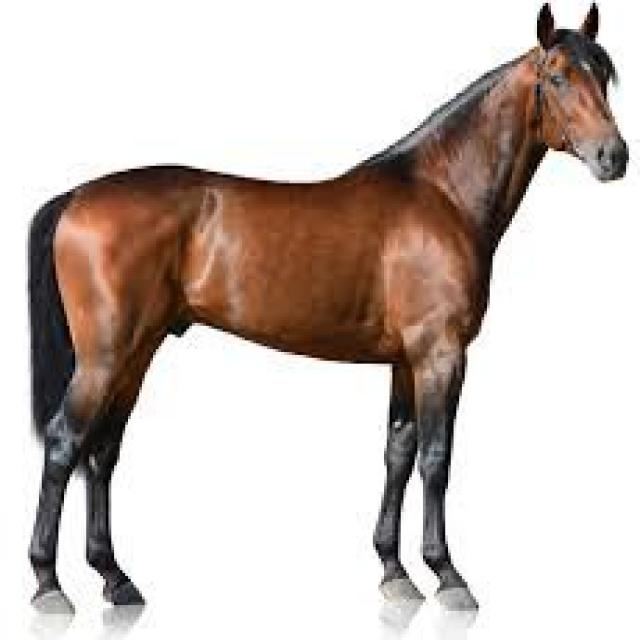Horse: (26, 3, 628, 619)
